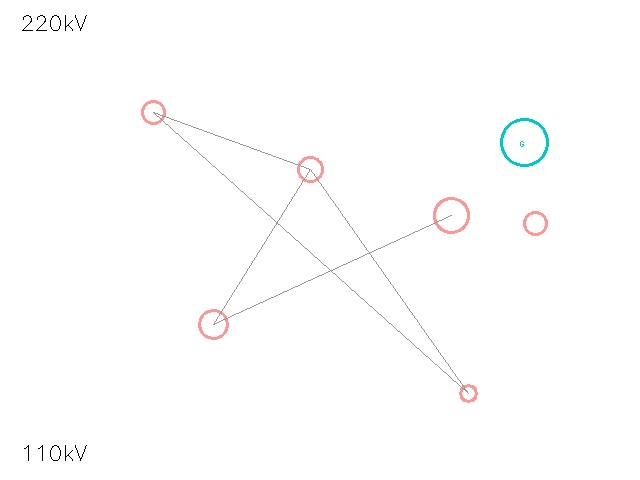disconnect_switch: (417, 181, 485, 249), (286, 145, 334, 193)
feeder_terminal: (184, 295, 242, 353)
generator: (501, 119, 547, 165)
load_break_switch: (451, 376, 485, 410)
reactor: (131, 90, 175, 134)
voltage_transformer: (512, 200, 558, 246)
